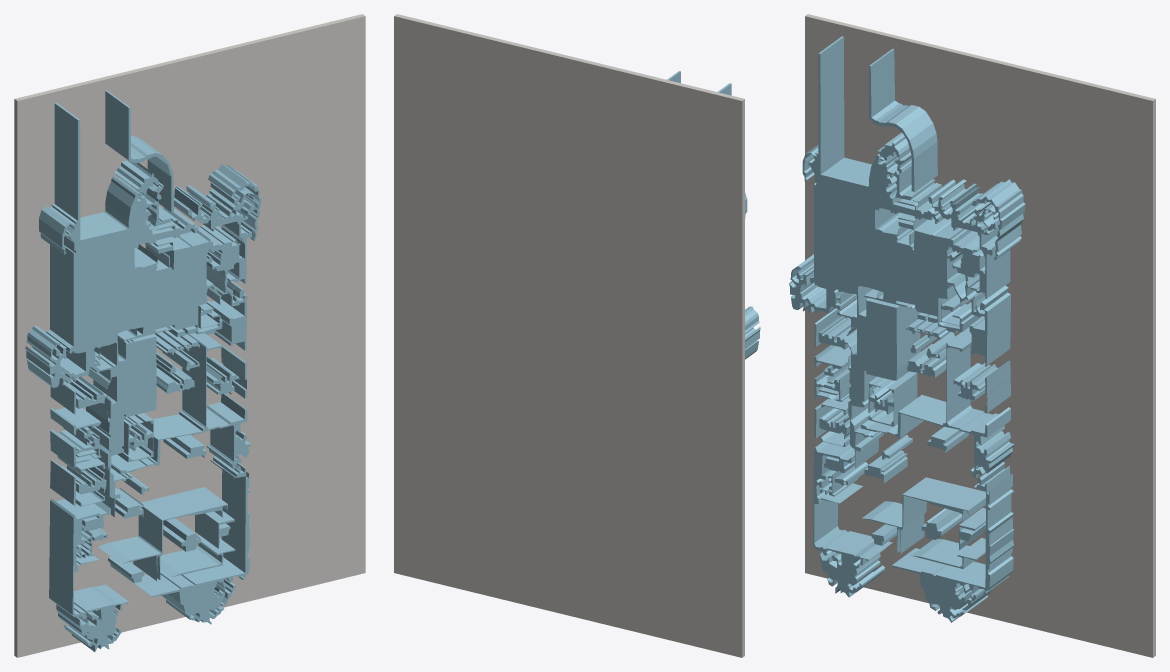
3 views of the same model, side by side, from view 1: azimuth 30°, elevation 25°; view 2: azimuth 150°, elevation 25°; view 3: azimuth 330°, elevation 25° (orthographic).
Parts seen in each view (by area): view 1: world; view 2: world; view 3: world.
Boxes of the visible parts, box(x1,y1,x2,y2) form: world: box(14, 14, 365, 657); world: box(394, 14, 760, 657); world: box(789, 14, 1155, 657).
Size of the model in its own units: 10.23 by 15.64 by 1.35.
